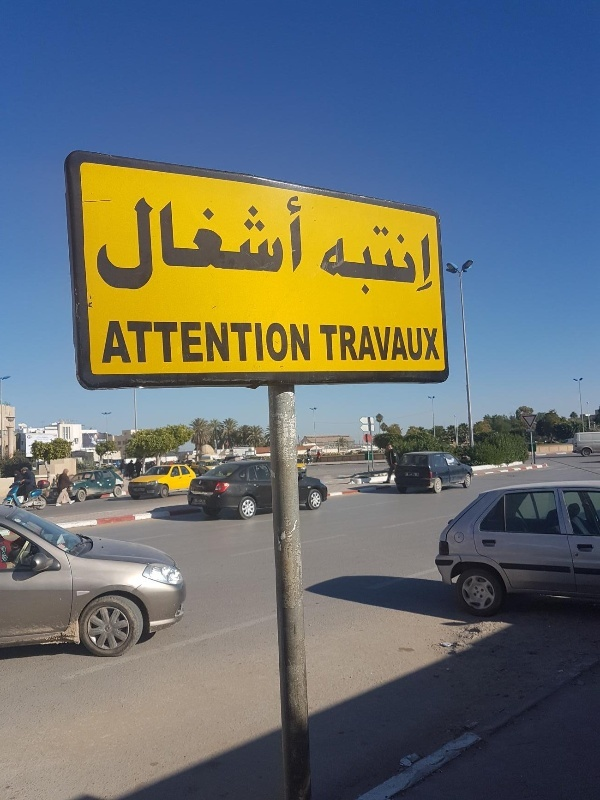text: (113, 192, 128, 298), (129, 192, 144, 298), (145, 192, 160, 298), (161, 192, 176, 298), (177, 192, 192, 298), (193, 192, 208, 298), (209, 192, 224, 298), (225, 192, 240, 298), (241, 192, 256, 298), (257, 192, 272, 298), (273, 192, 288, 298), (289, 192, 304, 298), (321, 217, 336, 300), (337, 217, 352, 300), (353, 217, 368, 300), (369, 217, 384, 300), (385, 217, 400, 300), (401, 217, 416, 300), (417, 217, 432, 300), (101, 192, 112, 298), (113, 319, 128, 364), (129, 319, 144, 364), (145, 319, 160, 364), (161, 319, 176, 364), (177, 319, 192, 364), (193, 319, 208, 364), (209, 319, 224, 364), (225, 319, 240, 364), (241, 319, 256, 364), (257, 319, 272, 364), (273, 319, 288, 364), (289, 319, 304, 364), (98, 319, 112, 364), (321, 323, 336, 362), (337, 323, 352, 362), (353, 323, 368, 362), (369, 323, 384, 362), (385, 323, 400, 362), (401, 323, 416, 362), (417, 323, 432, 362), (305, 319, 313, 364), (433, 323, 441, 362), (433, 217, 436, 300), (316, 323, 320, 362), (305, 192, 306, 298)
